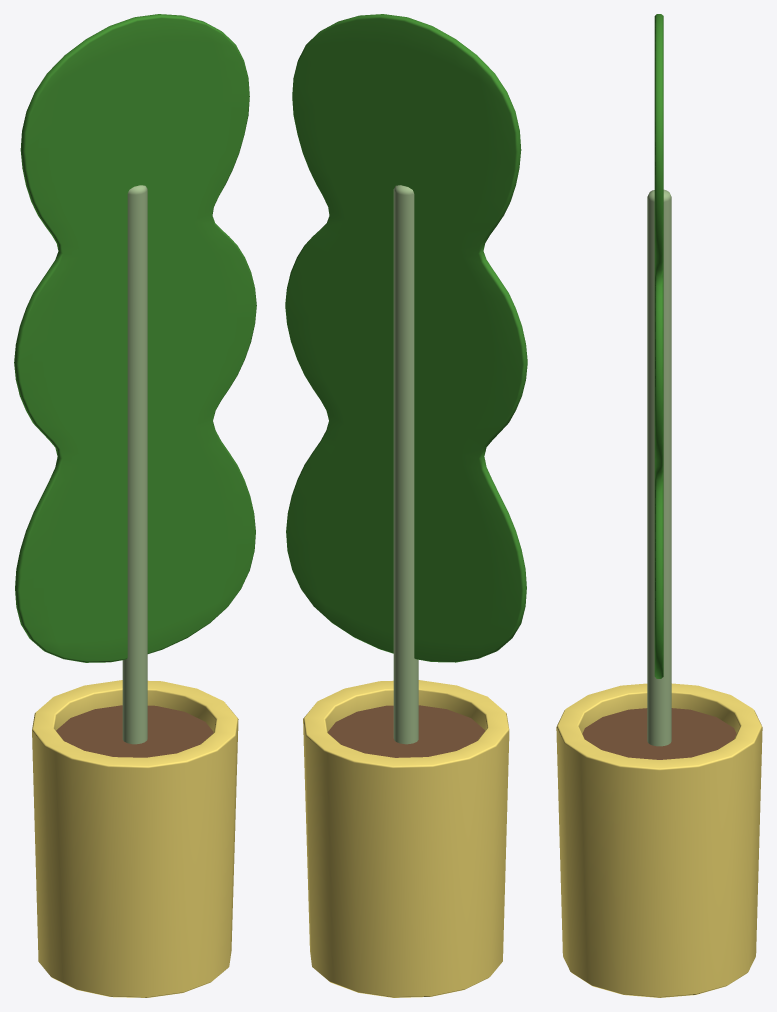
Rendered from Vase_3.glb.
3 renders of one model, left to right at view 1: azimuth 30°, elevation 25°; view 2: azimuth 150°, elevation 25°; view 3: azimuth 270°, elevation 25°, orthographic.
Parts seen in each view (by area): view 1: Plant_65; view 2: Plant_65; view 3: Plant_65.
Boxes of the visible parts, <box> form: Plant_65: <box>14,14,256,997</box>; Plant_65: <box>285,14,527,997</box>; Plant_65: <box>556,14,762,997</box>.
Bounding box in the file's own units: 0.5484 × 2.05 × 0.4113.
Materials: 1 (1 with a texture image).
